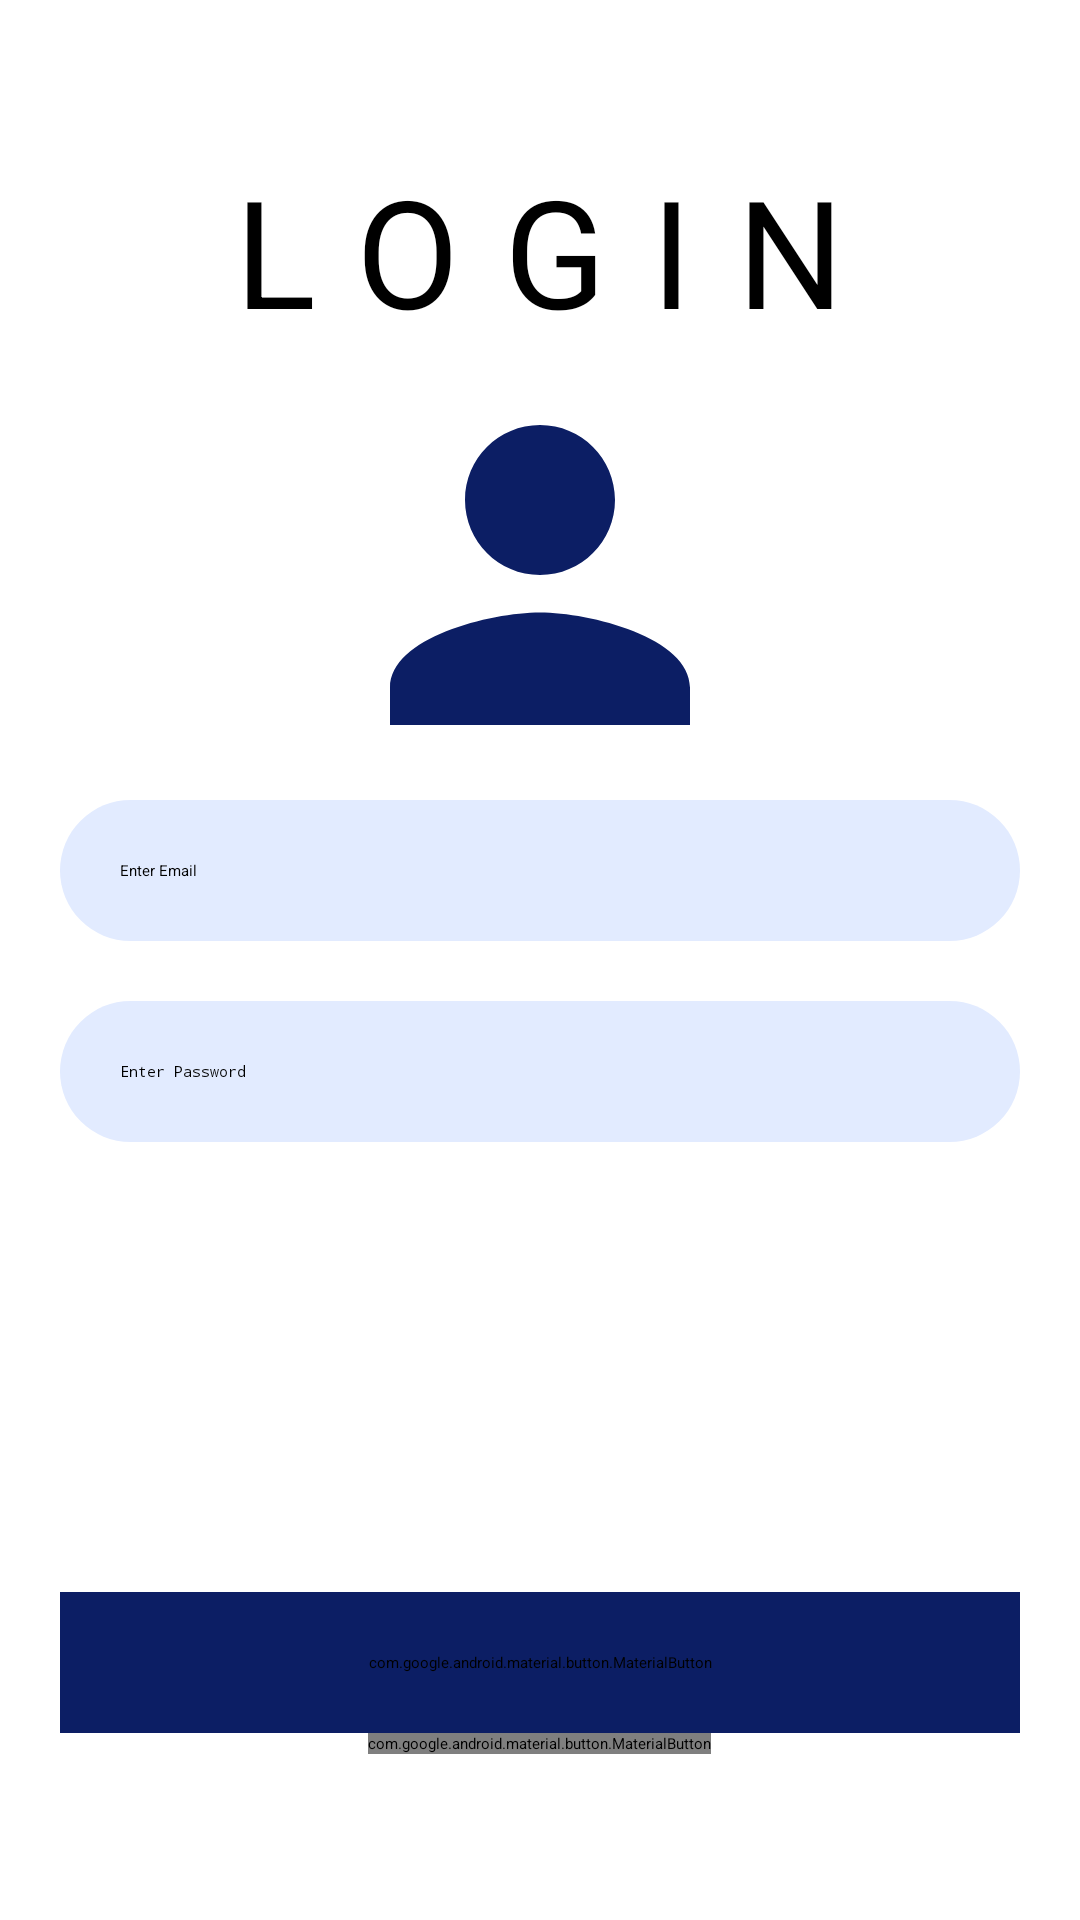

Icons on this 1080 x 1920 Android screen, each with its box as rect(x1, y1, x2, y2):
person: rect(390, 425, 690, 725)
